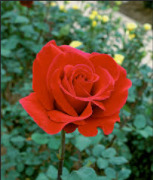RedRose: (23, 39, 131, 135)
